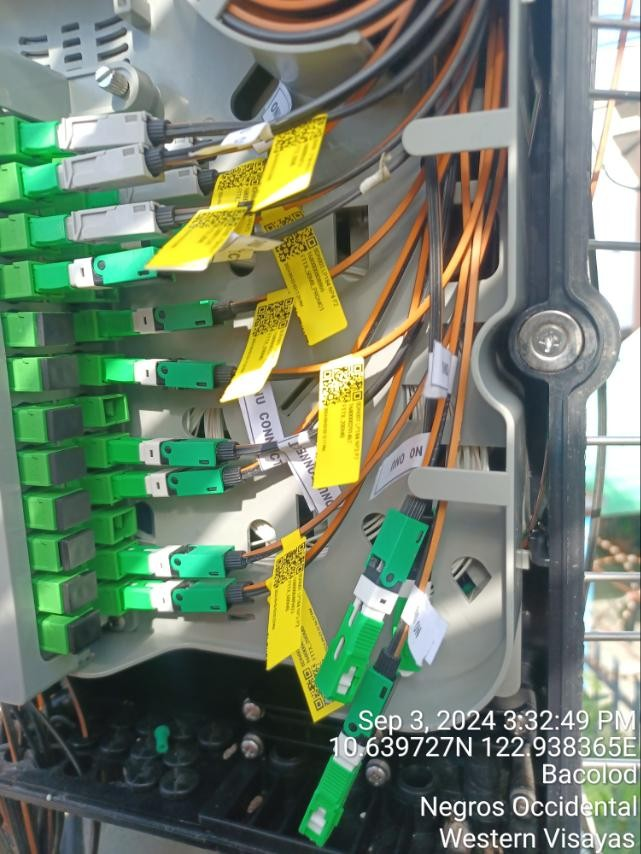no dust cap: (90, 263, 121, 305), (112, 509, 138, 543), (100, 395, 129, 425)
occupied: (19, 139, 170, 204), (35, 243, 181, 304), (30, 195, 180, 251), (18, 108, 171, 162), (80, 125, 221, 173), (86, 167, 222, 213), (100, 296, 238, 341), (113, 462, 247, 503), (104, 354, 239, 392), (123, 577, 246, 614), (89, 219, 211, 255), (122, 544, 247, 577), (115, 434, 241, 465)
vacant: (68, 609, 102, 658), (63, 570, 97, 614), (62, 528, 96, 571), (56, 490, 91, 531), (49, 404, 83, 442), (49, 446, 83, 483), (44, 356, 79, 391), (40, 312, 75, 347)
